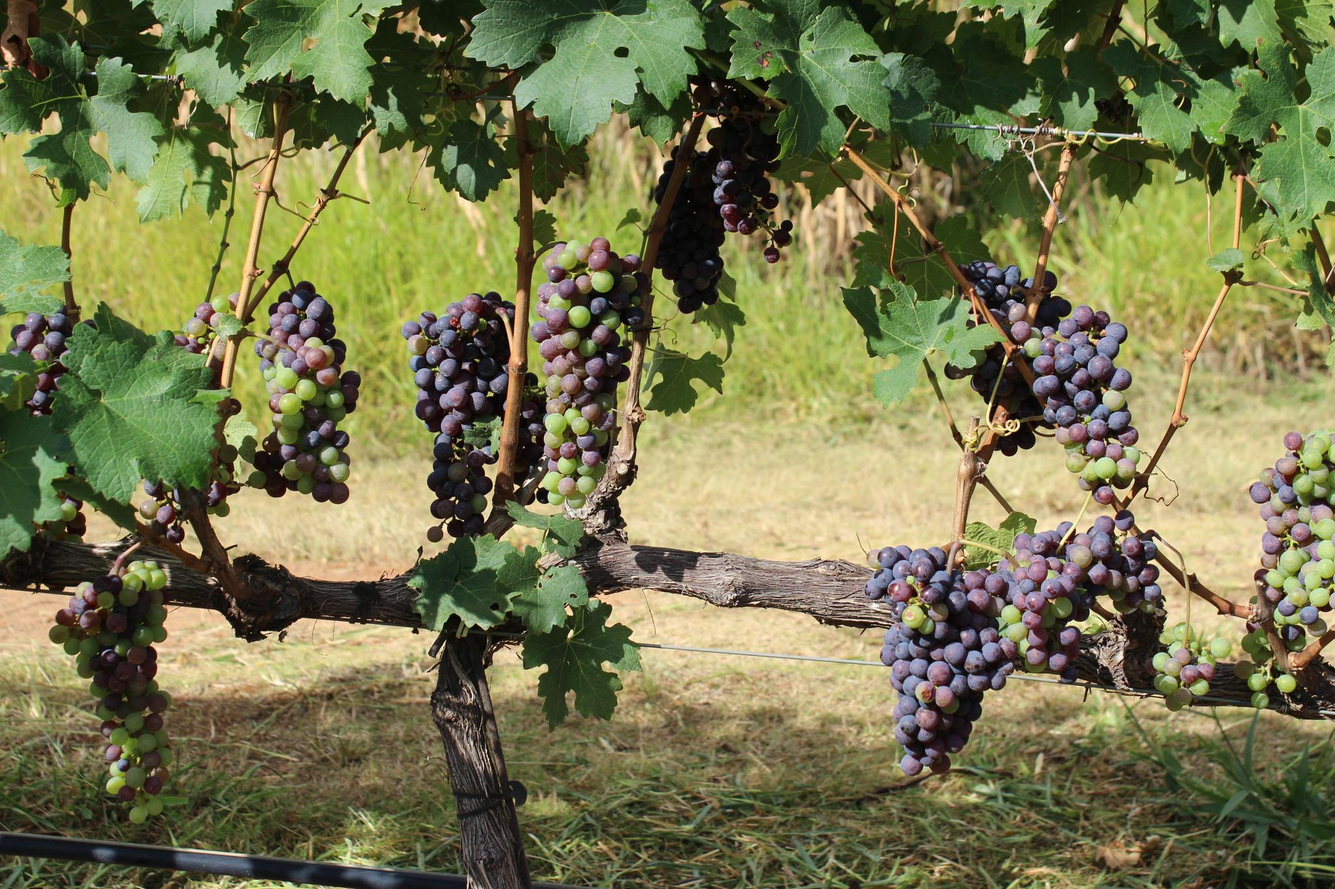Grape Ripe: (645, 134, 735, 308)
Grape Unripe: (962, 261, 1142, 507), (864, 537, 1019, 782), (49, 562, 170, 826), (979, 514, 1154, 686), (395, 285, 512, 542), (258, 275, 368, 512), (533, 235, 627, 511), (1245, 430, 1335, 656), (713, 91, 795, 255), (1156, 622, 1218, 702)
